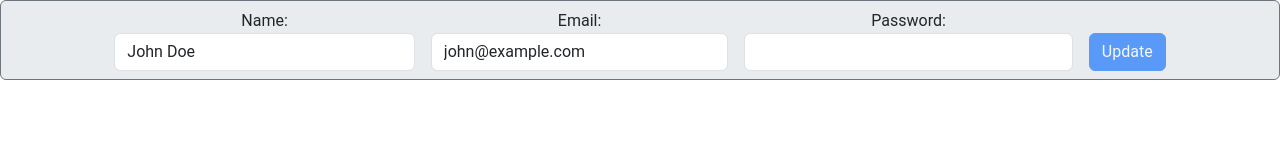
Scenario: UpdateUser › enables the update button when form values change
The width and height of the screenshot is (1280, 160).
Replace the text in the field labelled "Name:" with "John Doe Updated" at [265, 52], box [114,33,415,71]
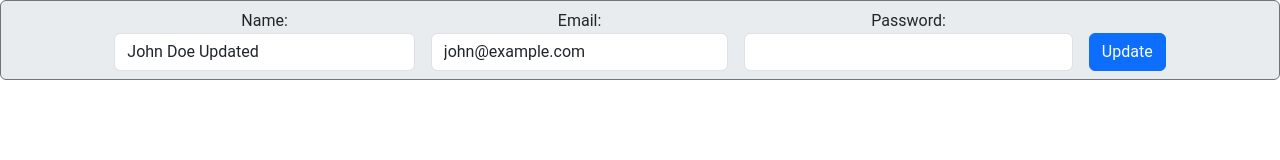
Check: the button "Update" is enabled, box [1089,33,1166,71]
